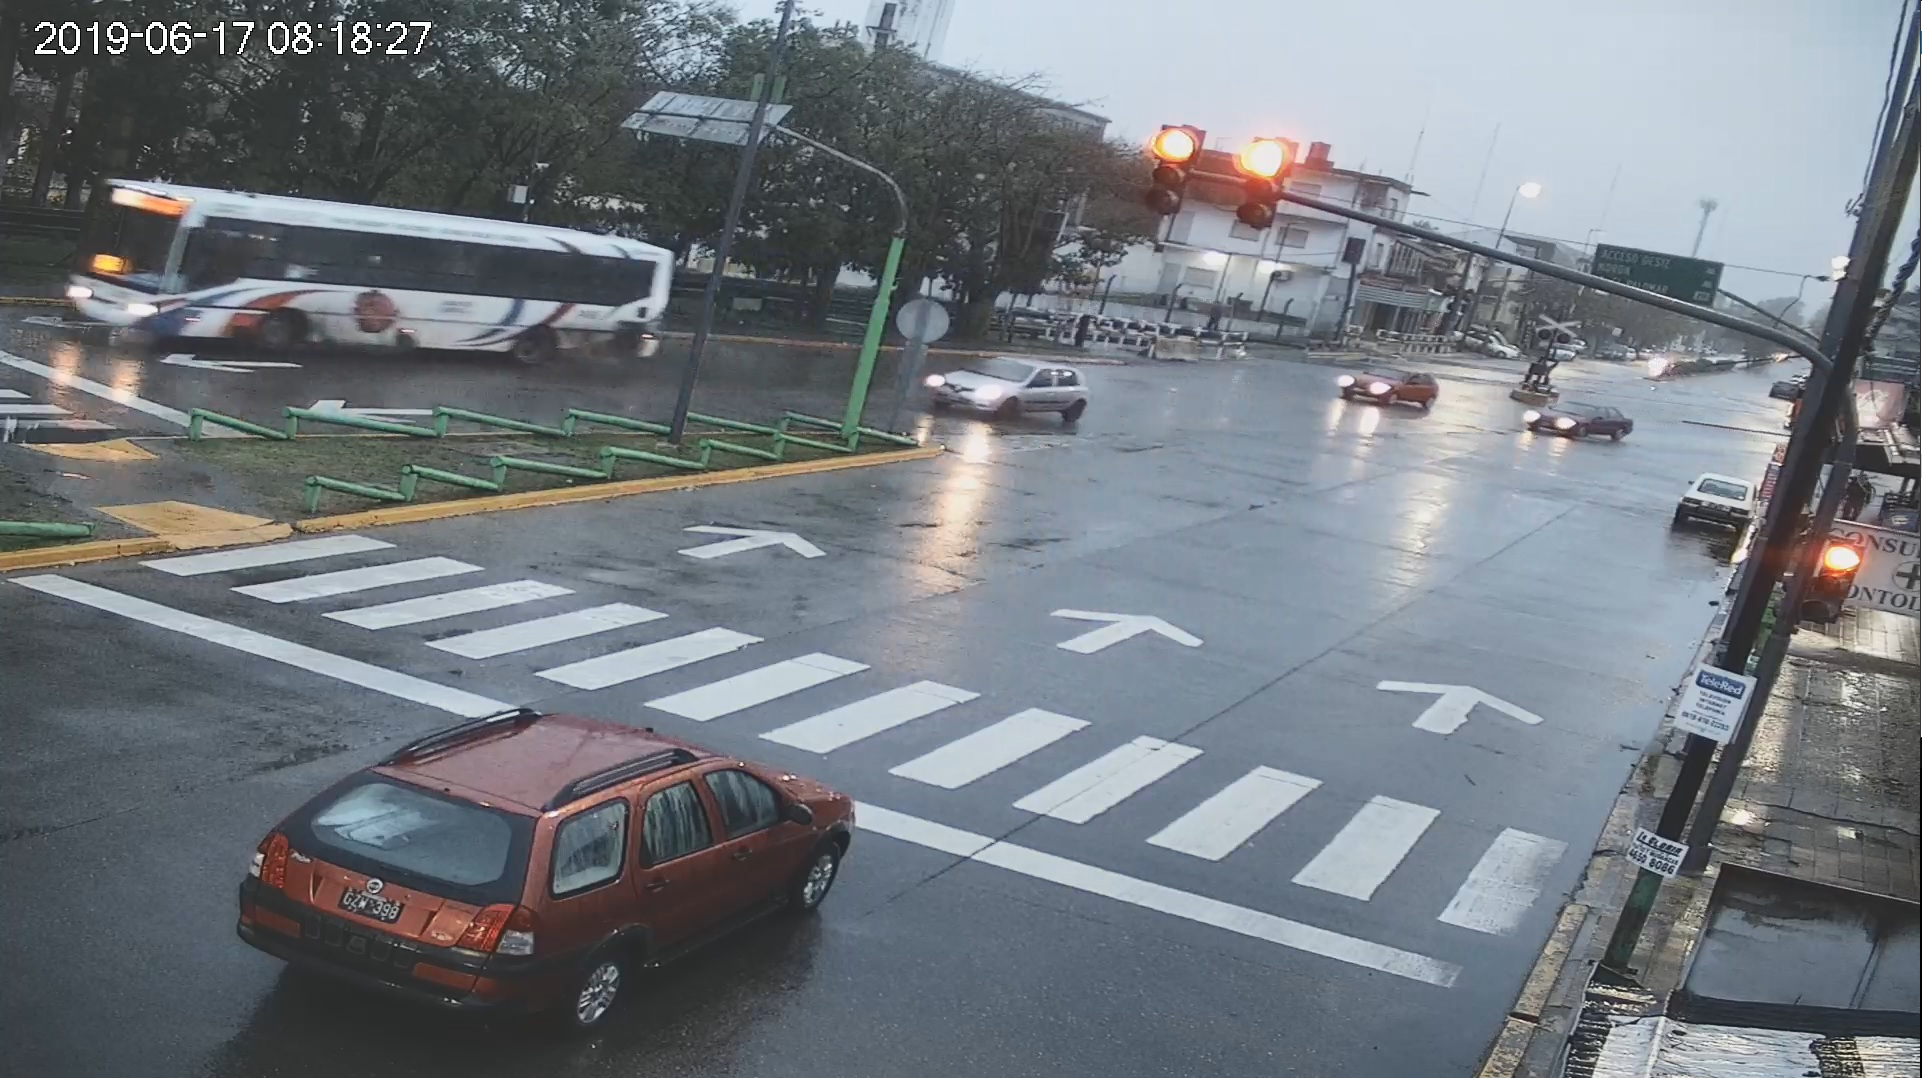bus: (62, 165, 671, 398)
car: (231, 713, 857, 1037), (917, 336, 1101, 435), (1667, 458, 1760, 545), (1517, 391, 1643, 447), (1333, 352, 1438, 420)
